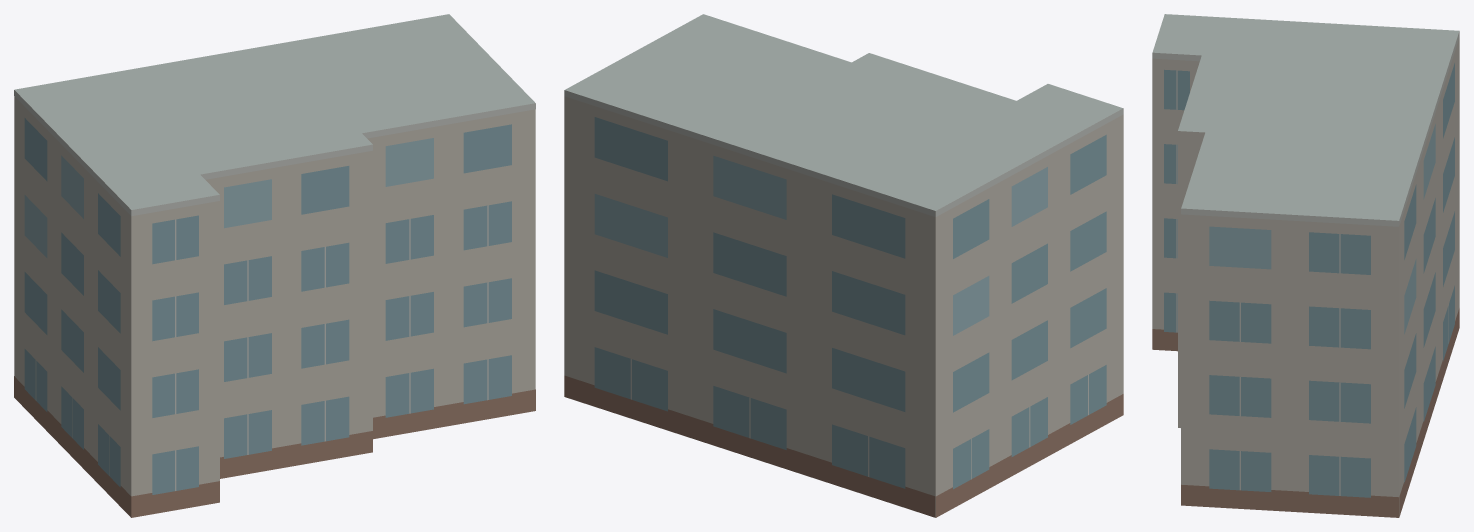
File: residential-57e16cf6-3cb8-4951-8071-9cf330b43524.glb
The picture shows the model from 3 angles, left to right: view 1: azimuth 30°, elevation 25°; view 2: azimuth 150°, elevation 25°; view 3: azimuth 270°, elevation 25°; orthographic projection. The views are drawn at different scales.
Visible parts, largest first — view 1: residential-57e16cf6-3cb8-4951-8071-9cf330b43524.tmp; view 2: residential-57e16cf6-3cb8-4951-8071-9cf330b43524.tmp; view 3: residential-57e16cf6-3cb8-4951-8071-9cf330b43524.tmp.
Part boxes in pixels (x1,y1,x2,y2): residential-57e16cf6-3cb8-4951-8071-9cf330b43524.tmp: (14, 14, 535, 517); residential-57e16cf6-3cb8-4951-8071-9cf330b43524.tmp: (564, 14, 1123, 517); residential-57e16cf6-3cb8-4951-8071-9cf330b43524.tmp: (1152, 14, 1459, 517).
Size of the model in its own units: 18.23 by 12.2 by 11.44.
